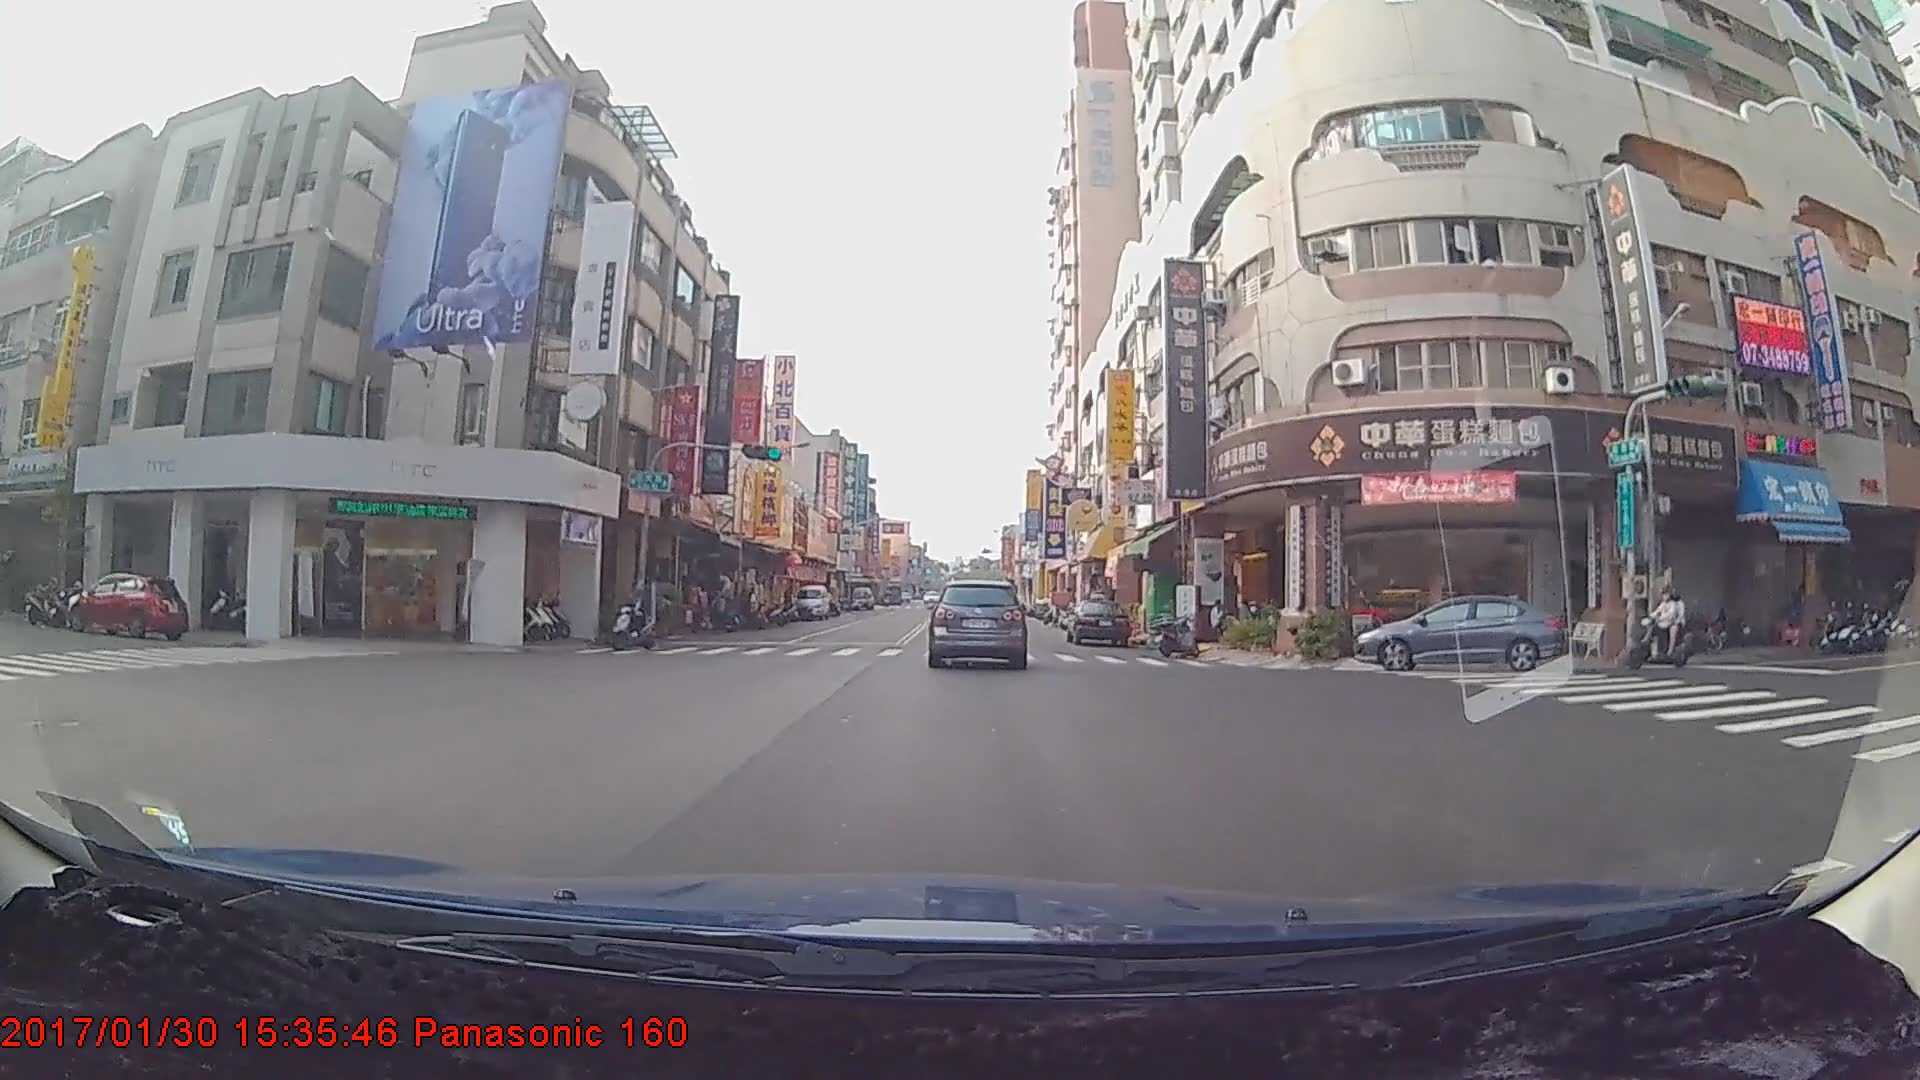pedestrian: (1207, 594, 1227, 641)
rider: (1626, 596, 1696, 673), (608, 583, 663, 653)
vehicle: (1356, 595, 1568, 672), (927, 581, 1026, 667), (69, 571, 188, 641), (1068, 603, 1131, 653), (789, 586, 831, 622), (850, 589, 875, 616)
